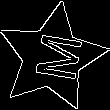M_W: (22, 31, 81, 84)
